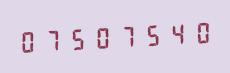five: (65, 22, 88, 54), (137, 18, 160, 50)
four: (161, 17, 184, 49)
seven: (41, 23, 64, 55), (113, 20, 136, 51)
zero: (89, 21, 112, 53), (185, 16, 208, 48), (17, 25, 40, 56)
